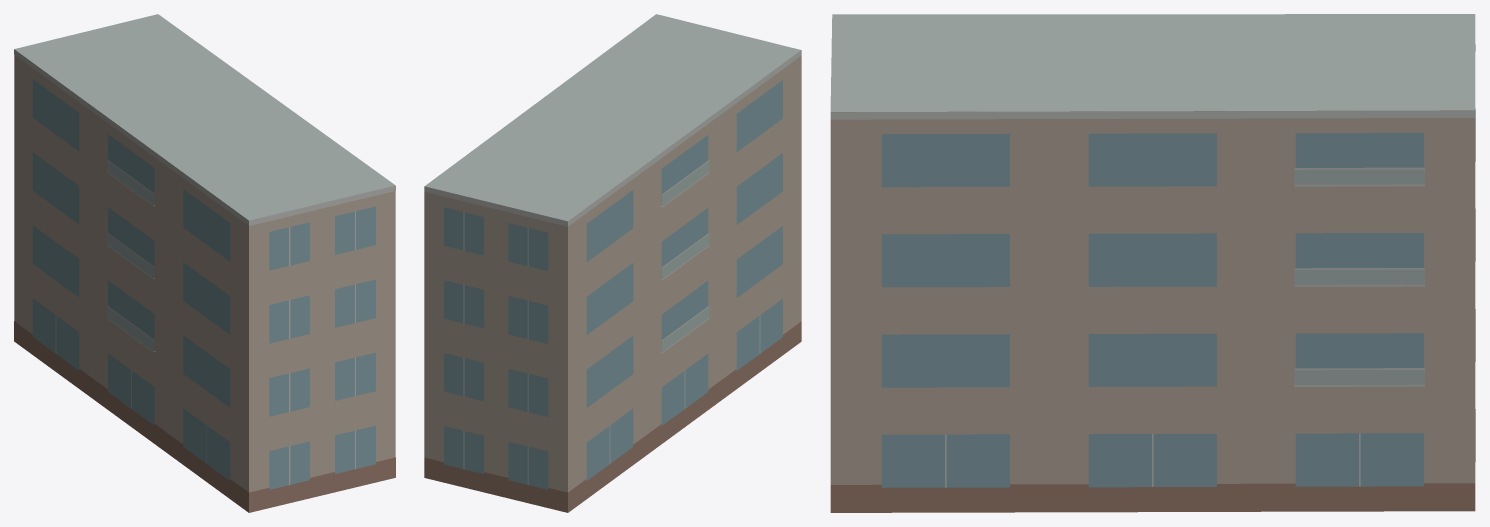
The model's file is survey-upis-32760804.glb.
3 views of the same model, side by side, from view 1: azimuth 30°, elevation 25°; view 2: azimuth 150°, elevation 25°; view 3: azimuth 270°, elevation 25° (orthographic). The views are drawn at different scales.
Visible parts, largest first — view 1: survey-upis-32760804.tmp; view 2: survey-upis-32760804.tmp; view 3: survey-upis-32760804.tmp.
Part boxes in pixels (box(x1,y1,x2,y2)): survey-upis-32760804.tmp: box(14, 14, 395, 512); survey-upis-32760804.tmp: box(424, 14, 801, 512); survey-upis-32760804.tmp: box(830, 14, 1475, 512).
Bounding box in the file's own units: 6.88 × 13.04 × 19.03.
